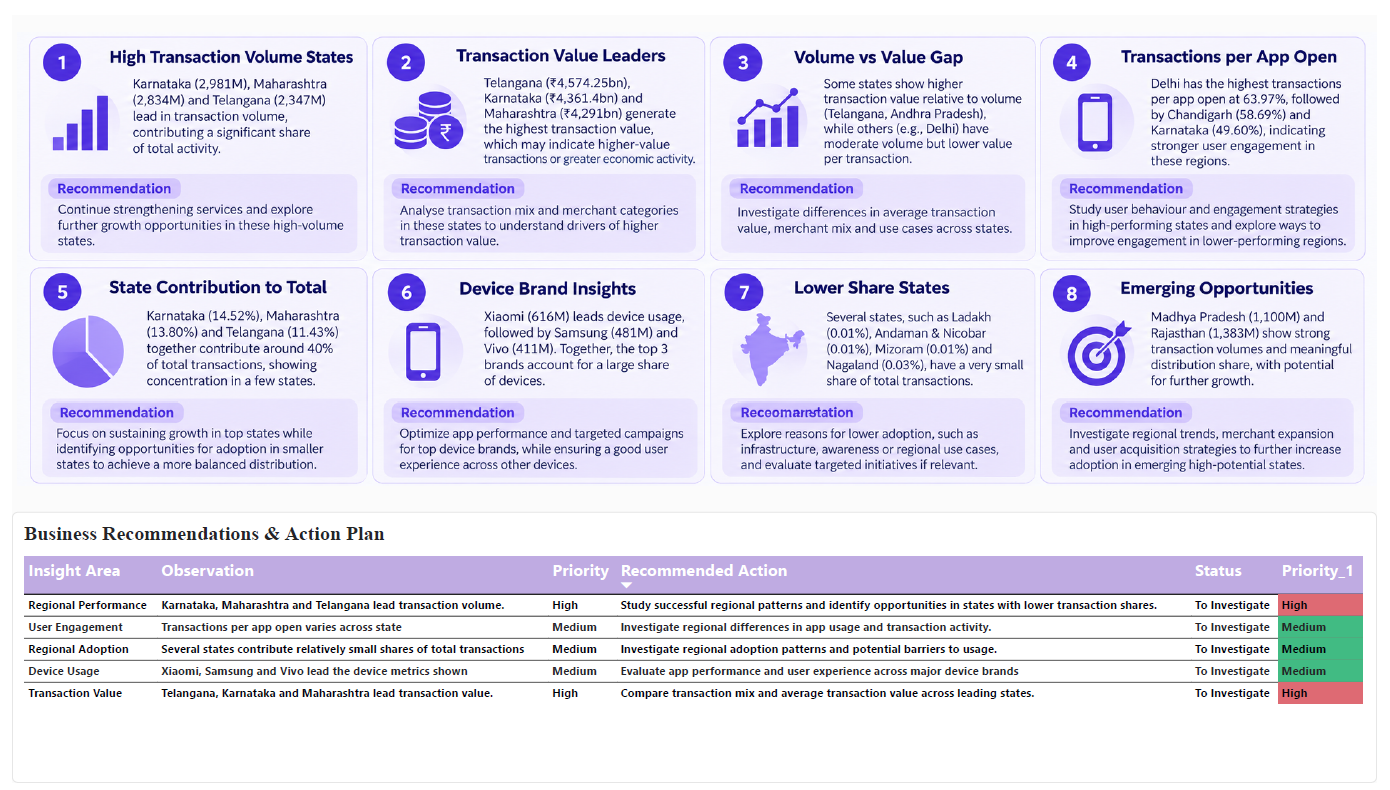

Layout of this report page (visuals, bound fields, positions):
{"tool":"powerbi","page":{"name":"Final Insights","canvas":[1920,1080],"ordinal":5},"visuals":[{"type":"image","box":[7.4,0,1912.3,686.5],"z":0},{"type":"tableEx","title":"Business Recommendations & Action Plan","fields":{"Values":["Recommendations.Insight Area","Recommendations.Observation","Recommendations.Priority","Recommendations.Recommended Action","Recommendations.Status","Recommendations.Priority_1"]},"box":[0,699.4,1919.6,381],"z":1000}]}

Visuals, with their boxes in screenshot pixels (x1, y1, x2, y2), scaled from the page's 1920x1080 canvas onto the 1390x790 screenshot:
image: x1=5 y1=0 x2=1389 y2=502
"Business Recommendations & Action Plan" tableEx: x1=0 y1=512 x2=1389 y2=789
